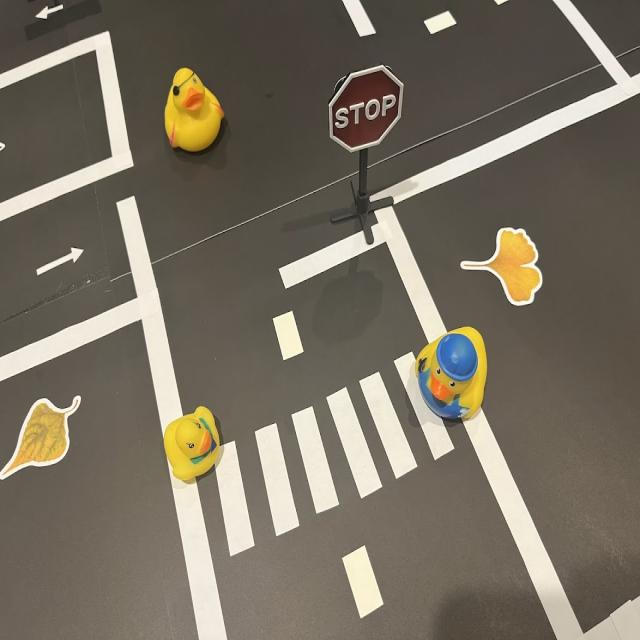duck_regular: (160, 403, 225, 484)
duck_specialty: (412, 326, 491, 426), (162, 67, 229, 157)
road_crosswalk: (212, 348, 460, 565)
road_oneway: (37, 246, 89, 283), (34, 1, 68, 25)
sign_stop: (329, 67, 404, 150)
